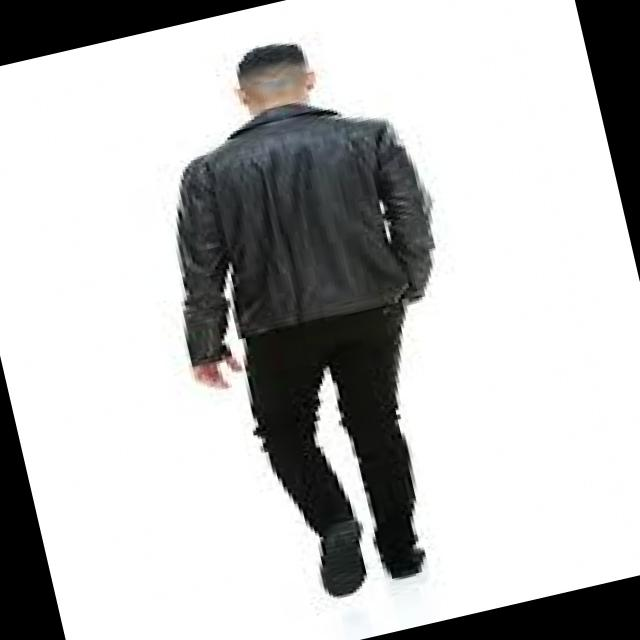Jacket: (117, 72, 480, 397)
